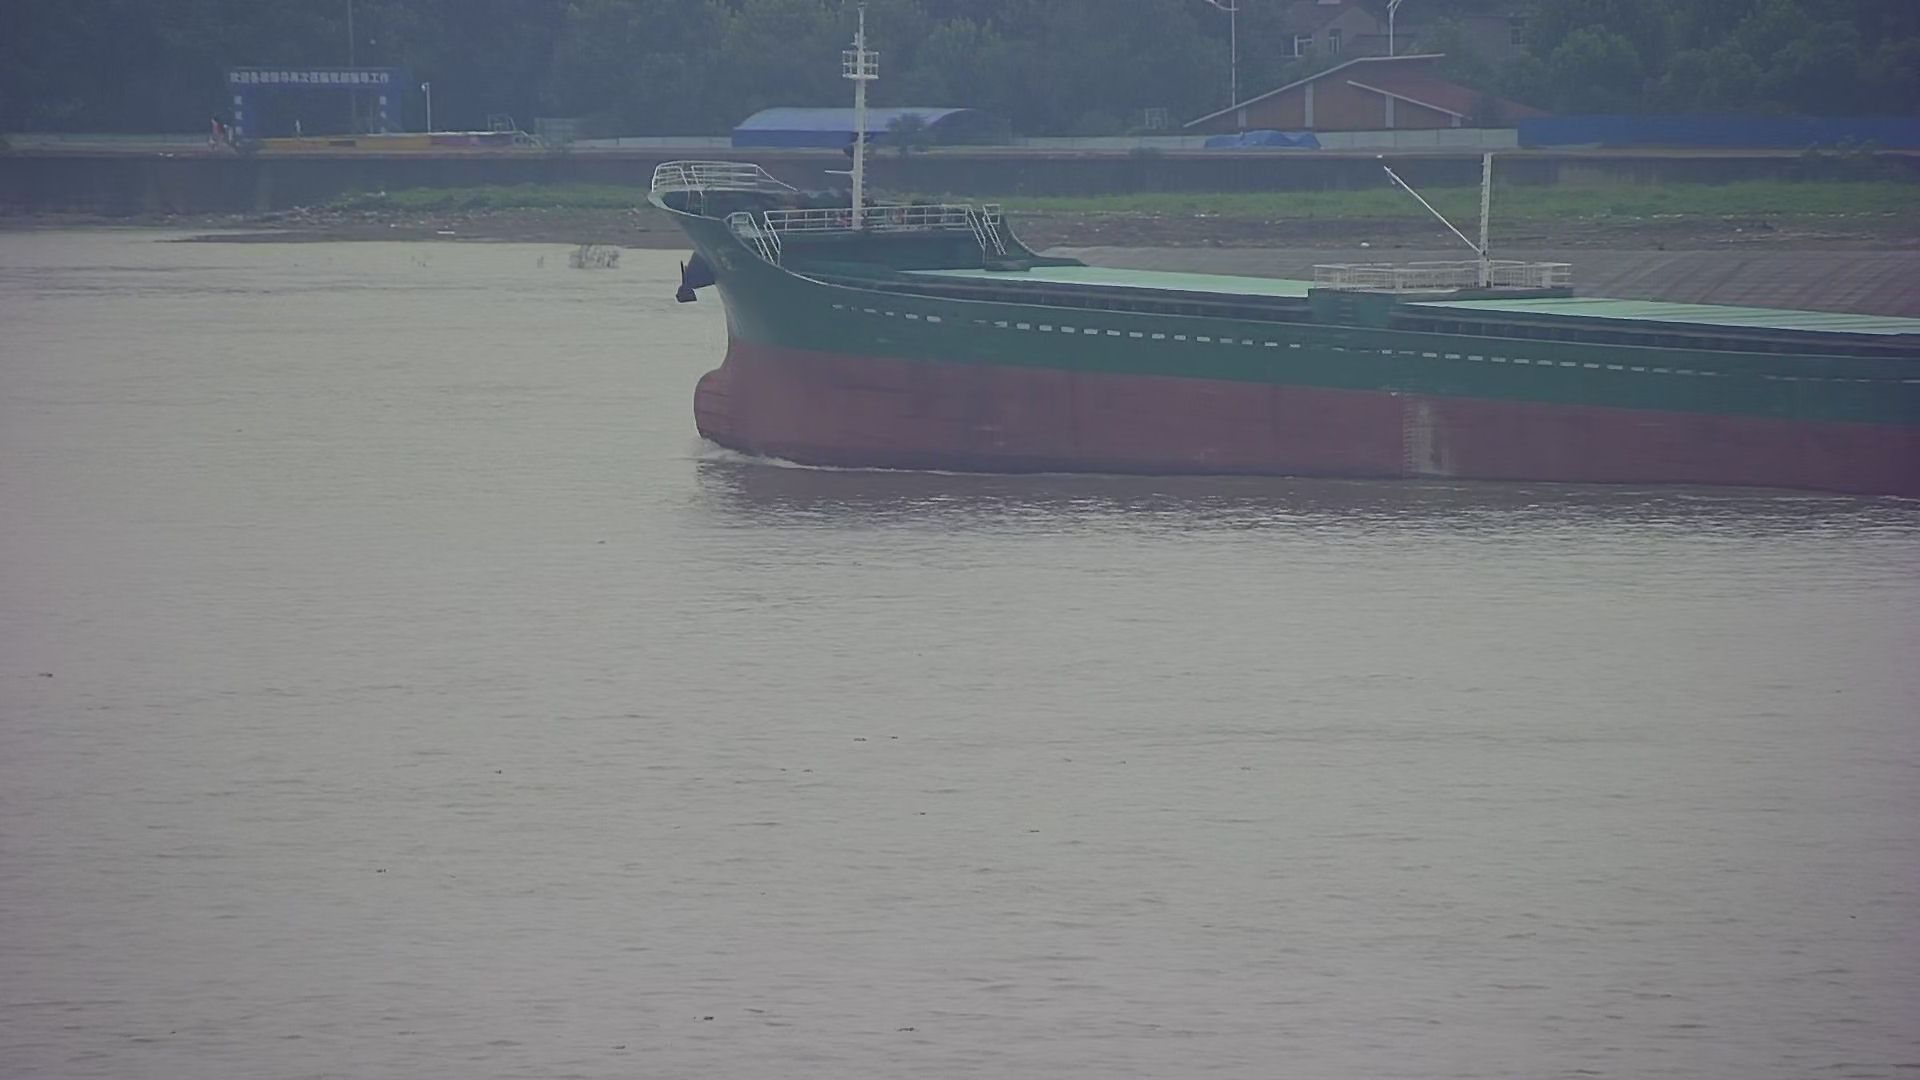ship: (647, 11, 1920, 495)
